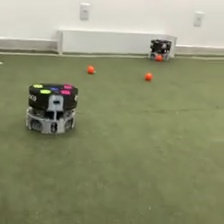ball: (144, 71, 153, 81), (86, 64, 95, 74), (155, 53, 163, 61)
goal: (56, 28, 178, 58)
robot: (24, 79, 80, 137), (148, 37, 172, 61)
